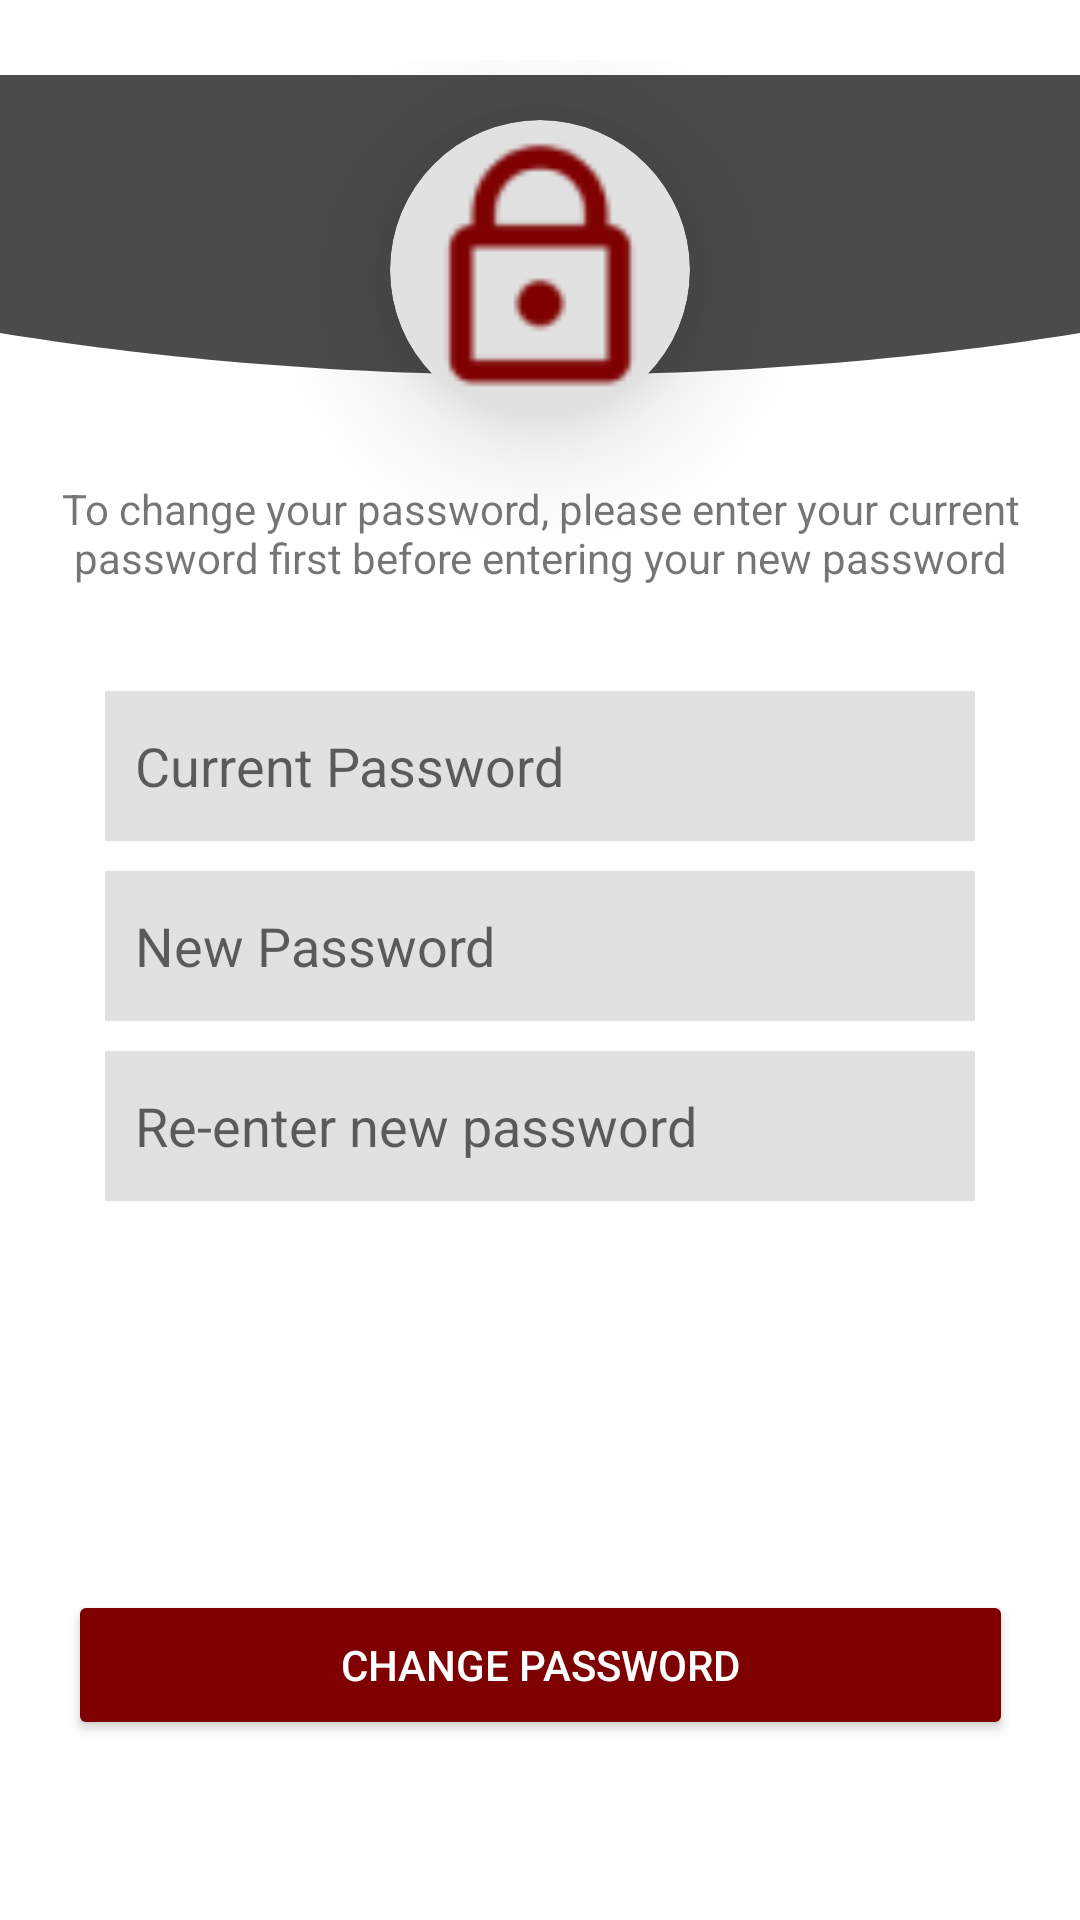

Where icons sit on this 1080w x 1920h app screen, as (x1,y1,x2,y2):
password lock: (390,120,690,420)
